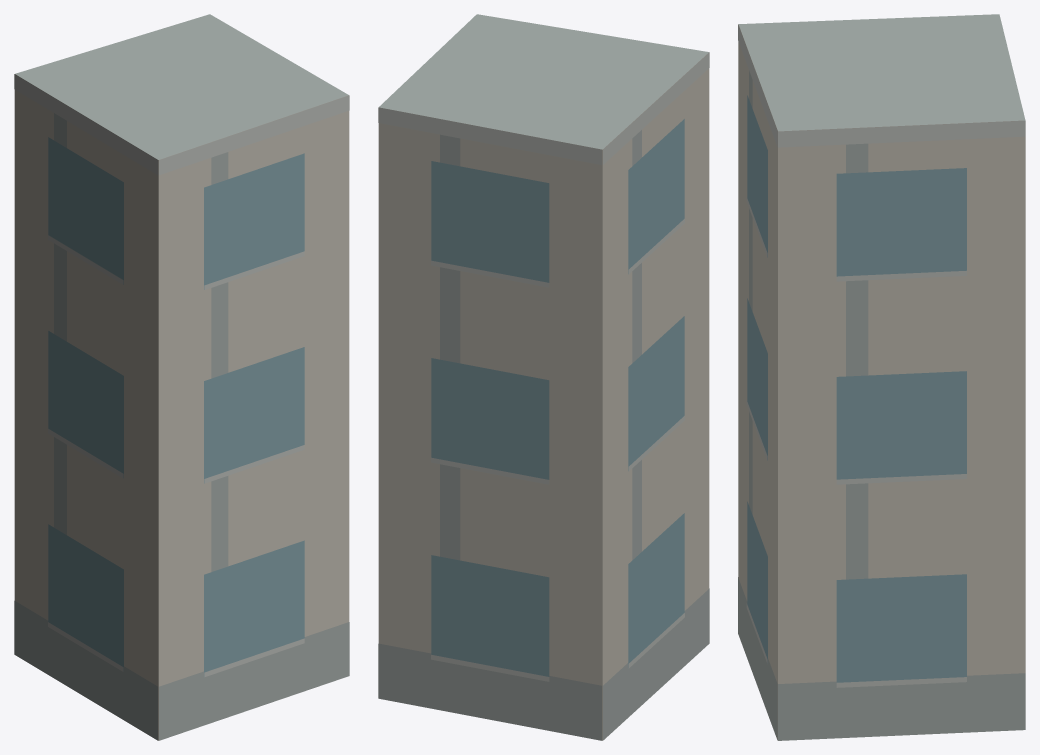
Rendered from survey-upis-32985814.glb.
3 renders of one model, left to right at view 1: azimuth 30°, elevation 25°; view 2: azimuth 150°, elevation 25°; view 3: azimuth 270°, elevation 25°, orthographic. The views are drawn at different scales.
Parts seen in each view (by area): view 1: survey-upis-32985814.tmp; view 2: survey-upis-32985814.tmp; view 3: survey-upis-32985814.tmp.
Boxes of the visible parts, x1,y1,x2,y2 form: survey-upis-32985814.tmp: (14,14,349,740); survey-upis-32985814.tmp: (378,14,709,740); survey-upis-32985814.tmp: (738,14,1025,740).
Size of the model in its own units: 3.79 by 9.15 by 3.92.
